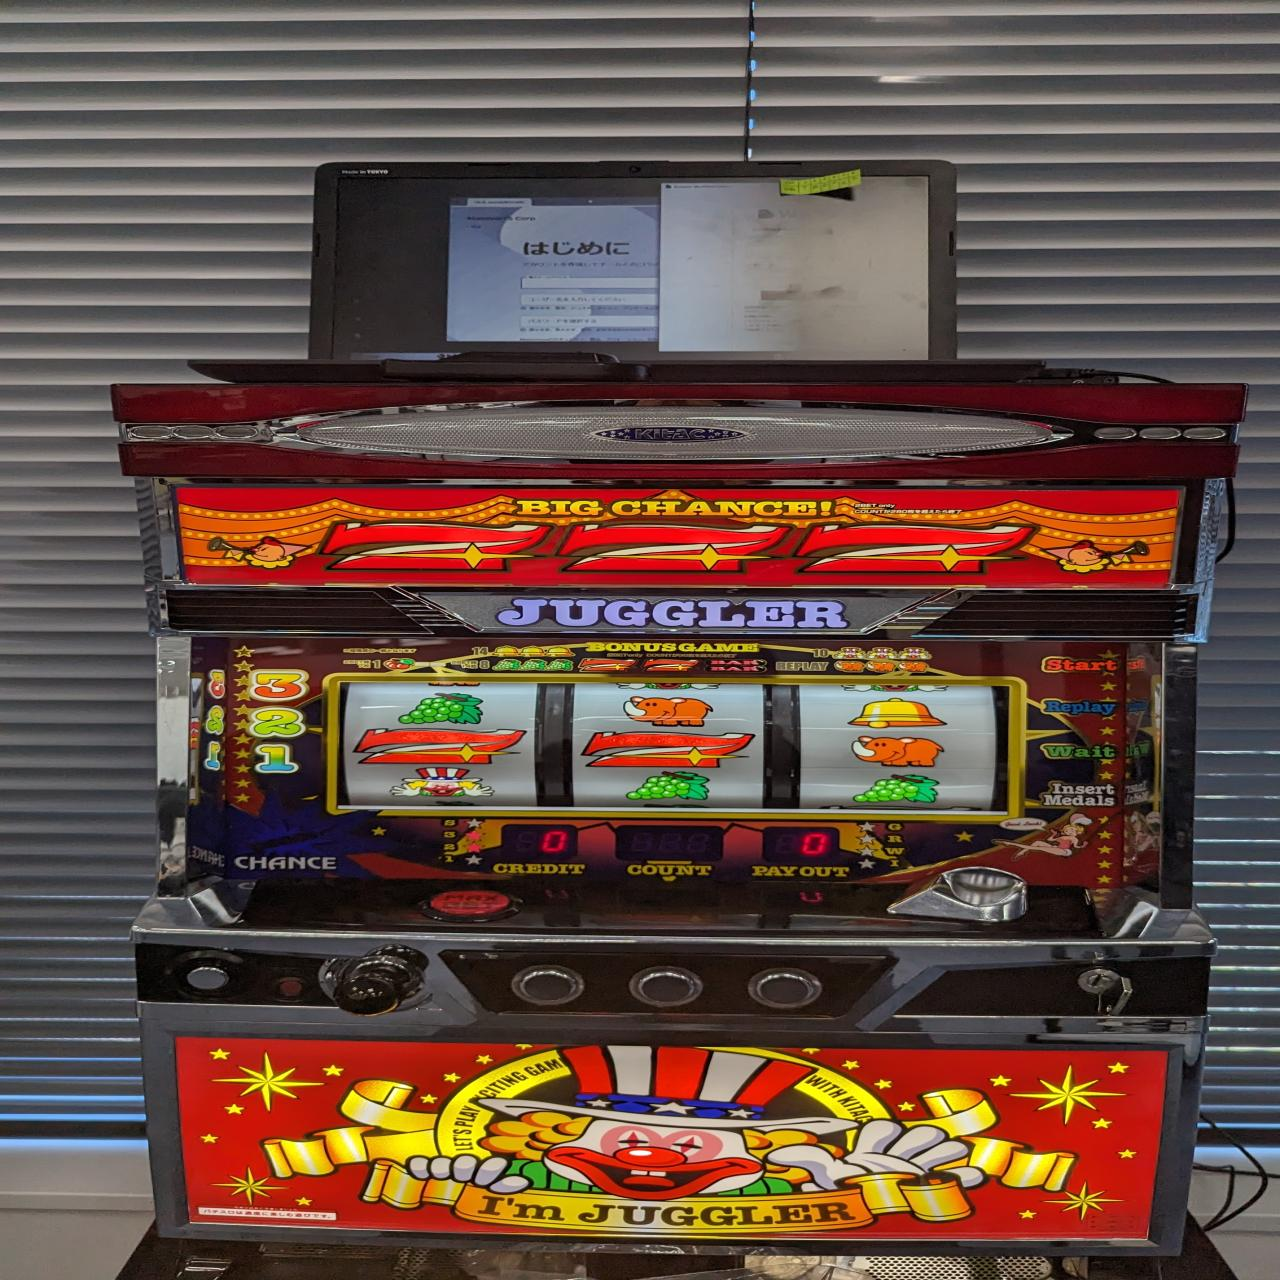7: (352, 726, 527, 768), (580, 728, 760, 767)
8: (845, 734, 948, 768), (618, 694, 719, 728)
Display: (338, 682, 1016, 816)
bell: (844, 697, 952, 730)
clown: (387, 768, 498, 799)
grape: (394, 688, 490, 726), (846, 772, 944, 805), (624, 768, 713, 803)
